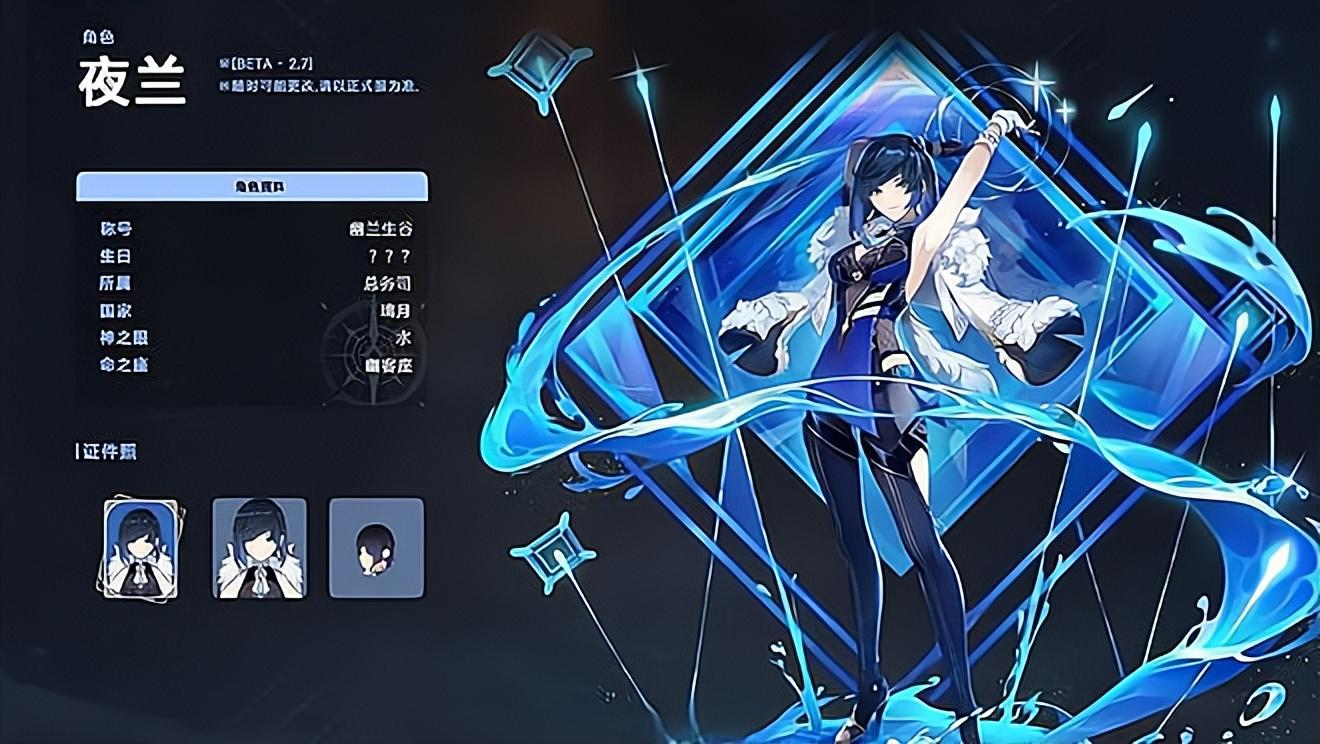夜兰: (787, 100, 1048, 744)
